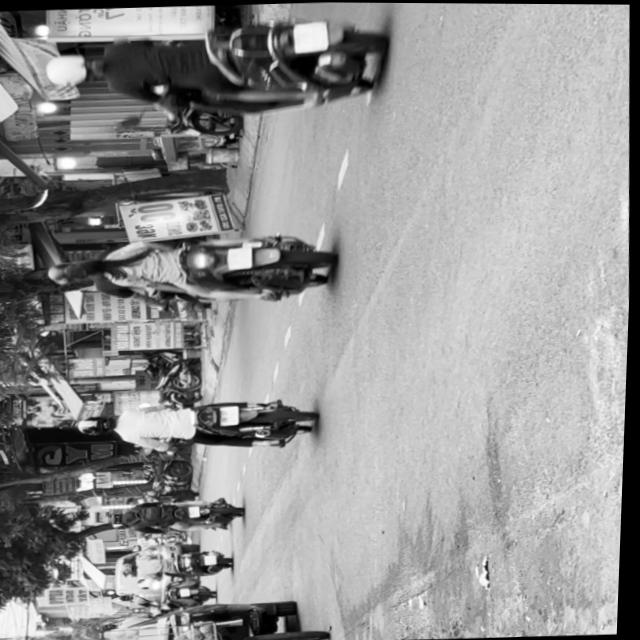helmet: (41, 51, 103, 87), (46, 258, 95, 284), (77, 413, 120, 434)
licenseplate: (38, 9, 392, 121), (43, 226, 337, 311), (74, 392, 319, 457)
motorcyclist: (62, 257, 108, 281)
nohelmet: (291, 20, 326, 50), (226, 246, 254, 269), (219, 405, 241, 425)
